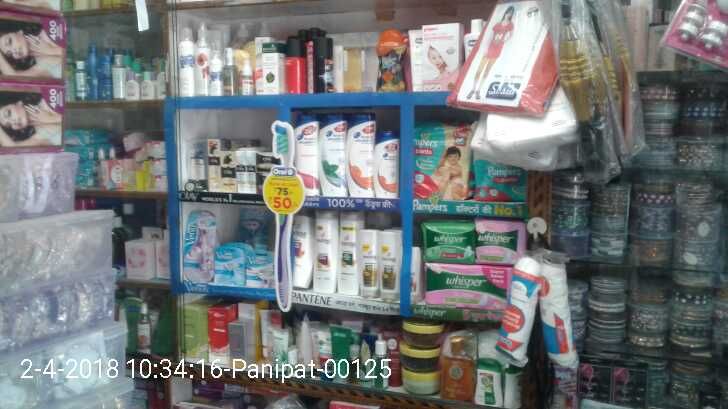venus: (182, 210, 214, 281), (215, 243, 247, 285), (240, 206, 274, 241), (249, 249, 276, 289)
